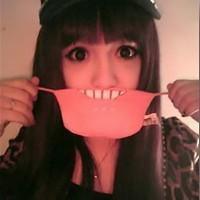face_mask: (56, 8, 146, 130)
